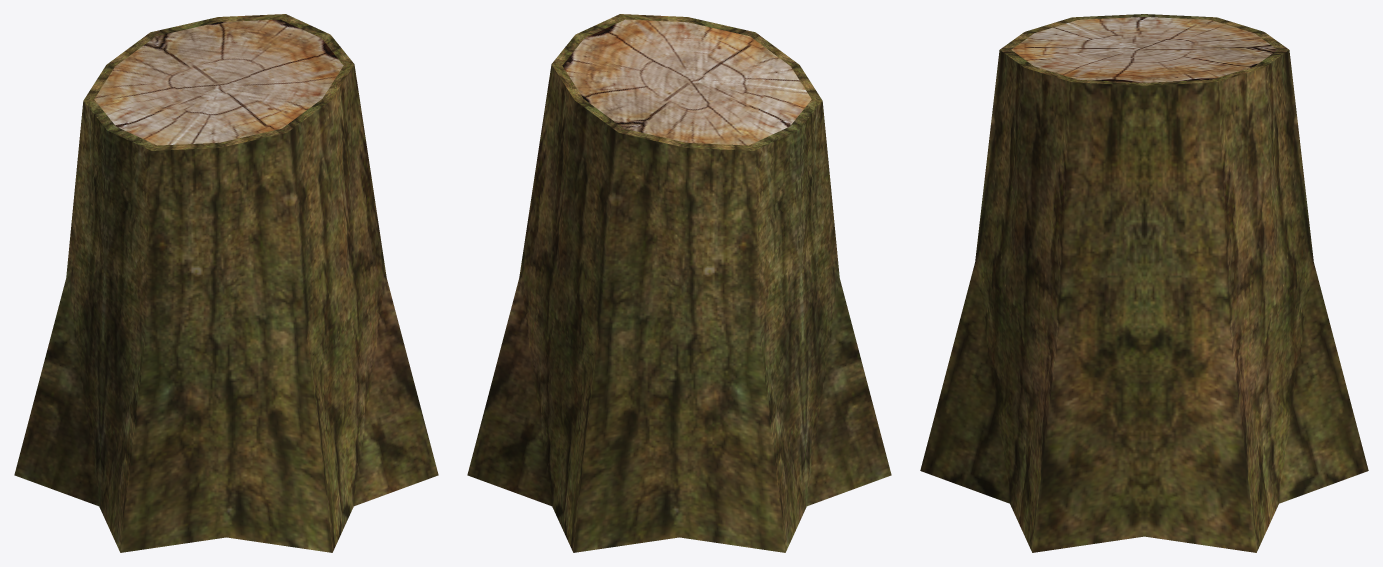
File: Stump02.FBX
The picture shows the model from 3 angles, left to right: view 1: azimuth 30°, elevation 25°; view 2: azimuth 150°, elevation 25°; view 3: azimuth 270°, elevation 25°; orthographic projection. The views are drawn at different scales.
Visible parts, largest first — view 1: Stump02; view 2: Stump02; view 3: Stump02.
Boxes of the visible parts, x1,y1,x2,y2 form: Stump02: [14, 14, 438, 552]; Stump02: [467, 14, 891, 552]; Stump02: [920, 14, 1368, 552].
Size of the model in its own units: 145 by 181 by 167.
